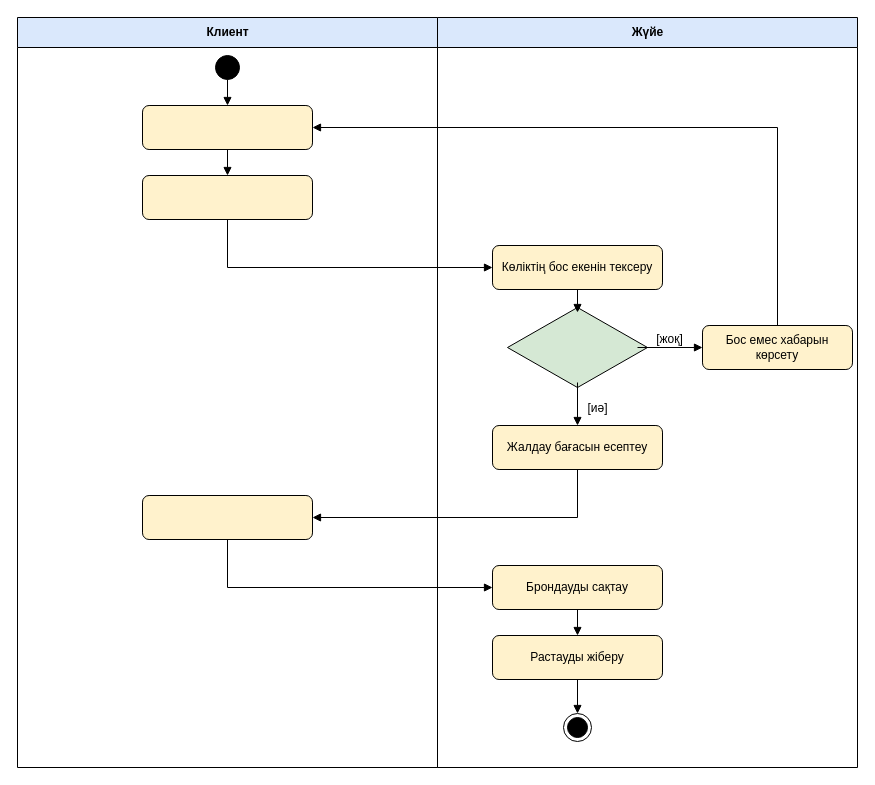
The diagram is 875 pixels wide and 785 high, and some of its shapes have lost their labels. Each missing label, with the centre of its shape:
"Жалға алу мерзімін енгізу" goes at point 227,197.
"Көлік бос па?" goes at point 577,347.
"Көлікті таңдау" goes at point 227,127.
"Төлем жасау" goes at point 227,517.
